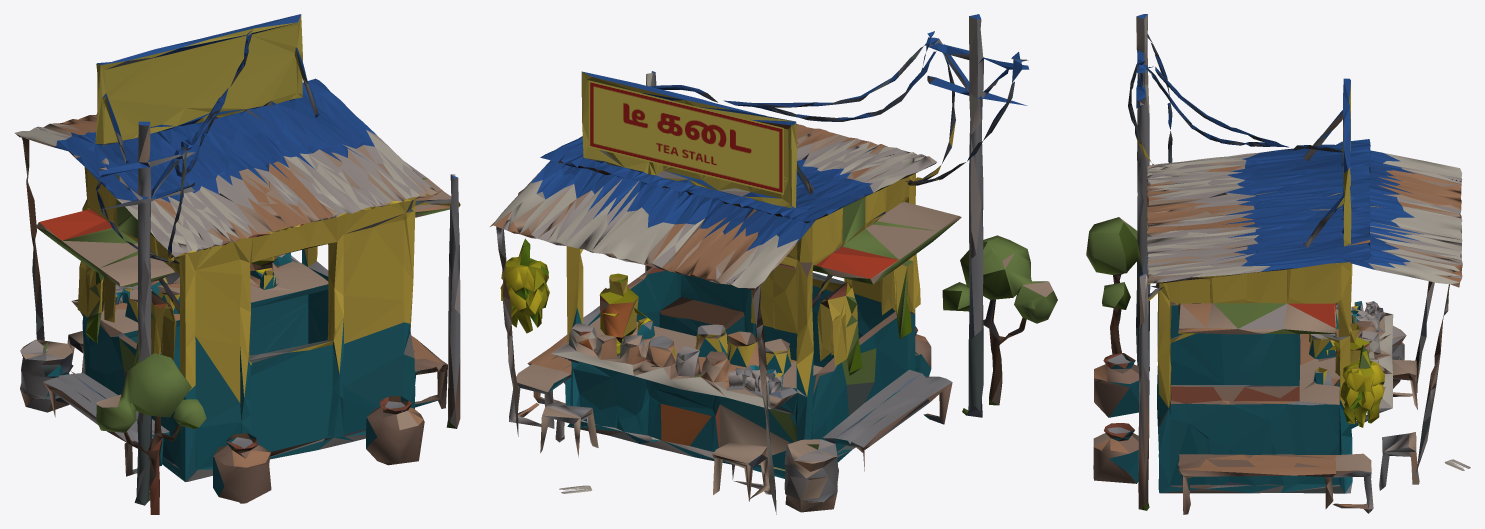
The model's file is tea_stall_a.glb.
3 renders of one model, left to right at view 1: azimuth 30°, elevation 25°; view 2: azimuth 150°, elevation 25°; view 3: azimuth 270°, elevation 25°, orthographic. The views are drawn at different scales.
Visible parts, largest first — view 1: stall; view 2: stall, sign; view 3: stall.
Part boxes in pixels (x1,y1,x2,y2): stall: (15,14,460,514); stall: (490,14,1057,514); sign: (588,80,783,194); stall: (1086,14,1470,514).
Size of the model in its own units: 3.83 by 3.51 by 3.46.
Materials: 2 (1 with a texture image).
